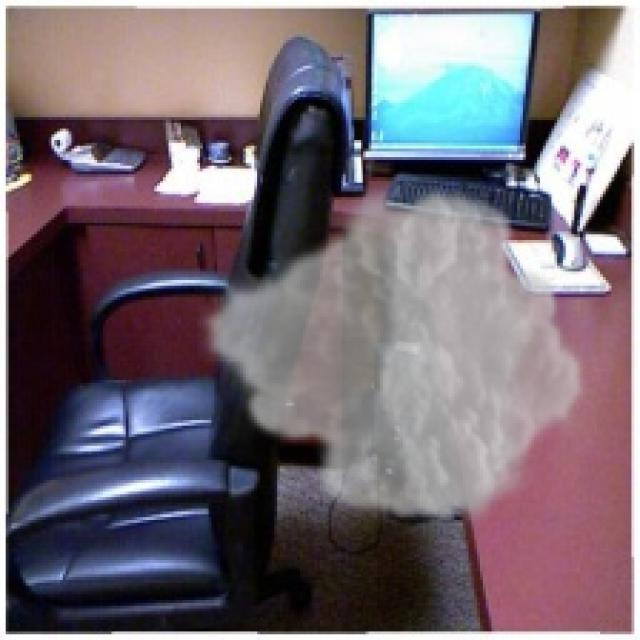Smoke: (197, 179, 589, 532)
